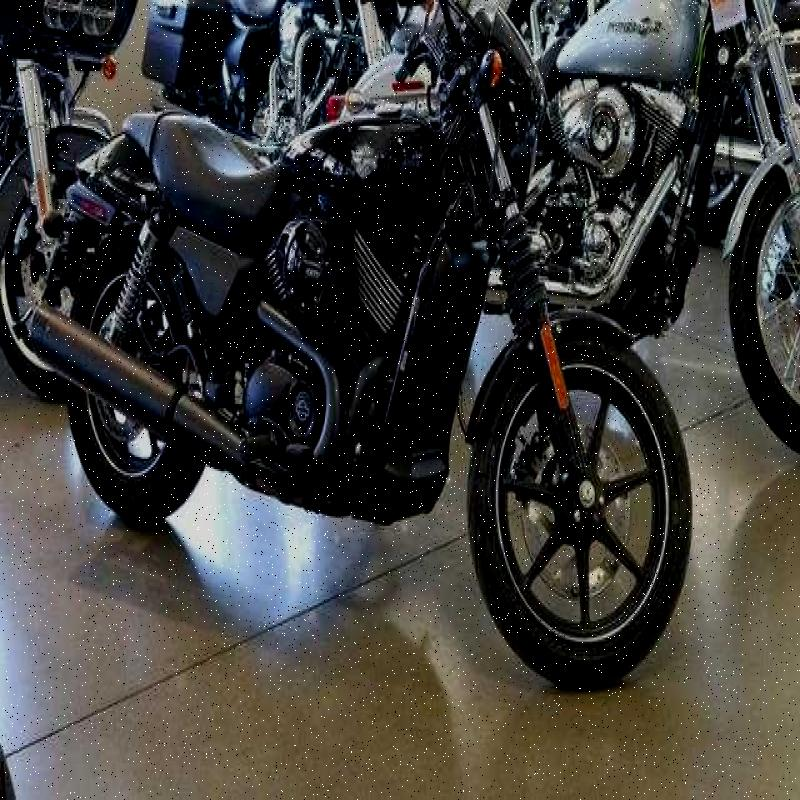bike: (44, 6, 699, 693)
